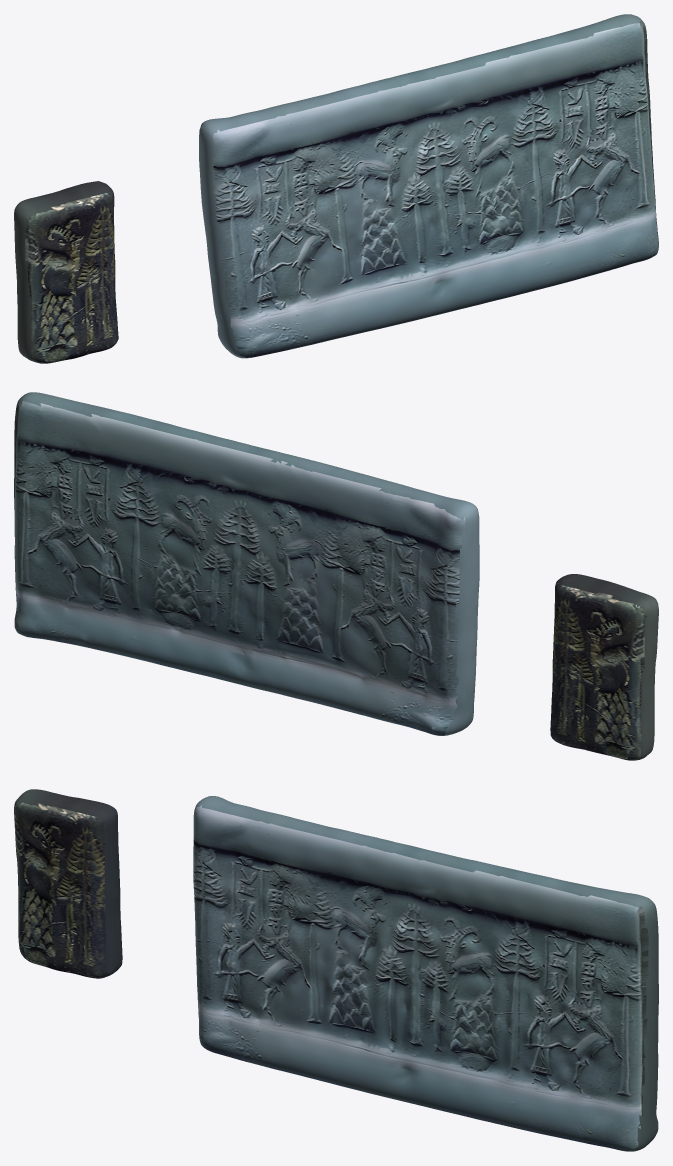
File: ane-08.glb
3 renders of one model, top to bottom at view 1: azimuth 30°, elevation 25°; view 2: azimuth 150°, elevation 25°; view 3: azimuth 330°, elevation 25°, orthographic. The views are drawn at different scales.
Visible parts, largest first — view 1: ane-08; view 2: ane-08; view 3: ane-08.
Part boxes in pixels (x1,y1,x2,y2): ane-08: (14,14,658,363); ane-08: (14,392,658,760); ane-08: (14,789,658,1151).
Size of the model in its own units: 0.9976 by 0.3605 by 0.1097.
Materials: 4 (4 with a texture image).
